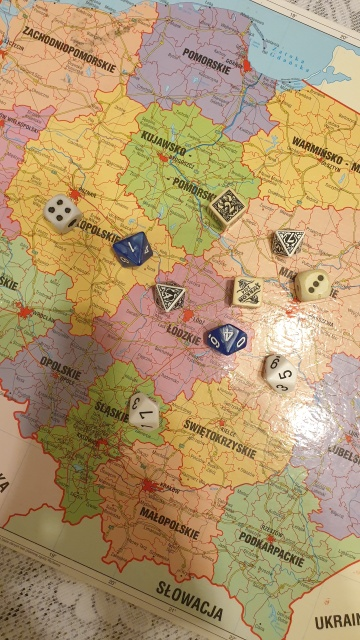d10-1: (113, 231, 145, 263)
d10-4: (203, 323, 248, 357)
d10-5: (260, 349, 298, 399)
d10-7: (121, 391, 164, 435)
d6-3: (296, 270, 334, 302)
d6-4: (41, 194, 75, 227)
d6p-1: (227, 277, 269, 309)
d6p-2: (208, 187, 248, 229)
d8p-4: (148, 276, 188, 317)
d8p-7: (270, 225, 308, 261)
